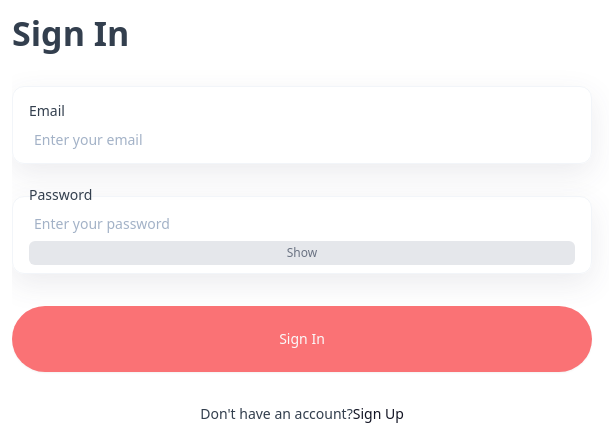
Test: AuthForm — Sign In › toggles password visibility
Click the text "Show".
click(302, 253)  # box [29,241,575,265]
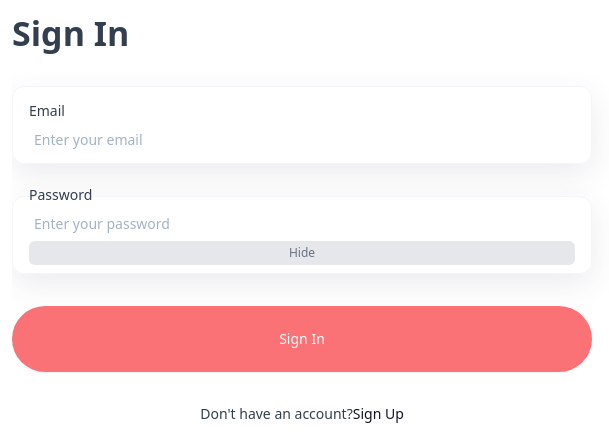
Expected: the text "show" reads "Hide", [289,244,315,261]
Click the text "show".
click(302, 253)  # box [29,241,575,265]
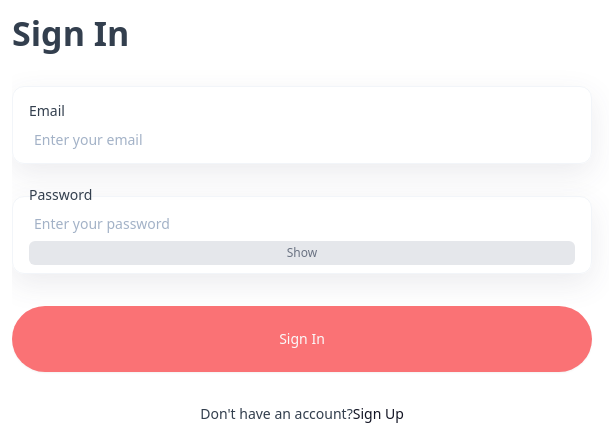
Expected: the text "Show" is shown, [29,241,575,265]
